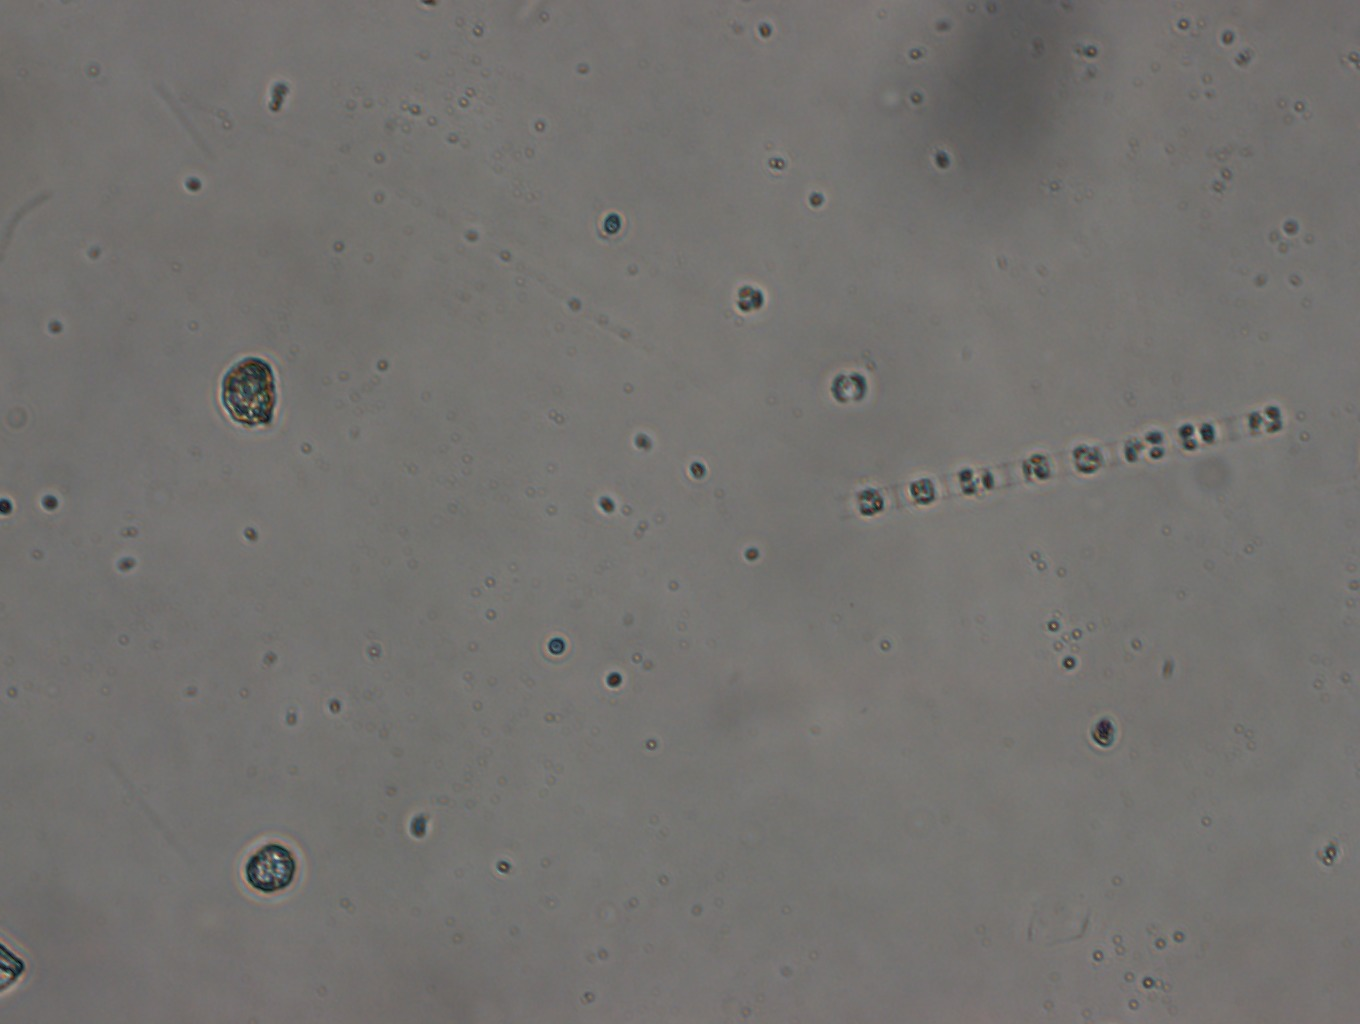skeletonema: (840, 392, 1306, 516)
